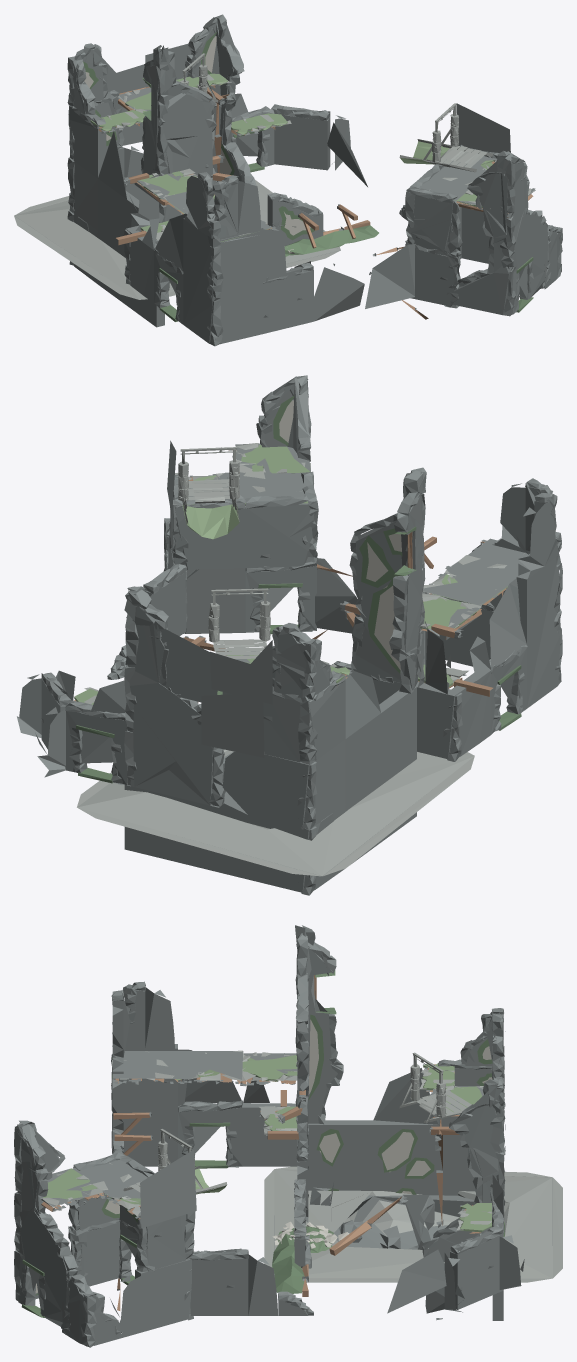
The model's file is jungle_ruins_e-map.glb.
3 renders of one model, top to bottom at view 1: azimuth 30°, elevation 25°; view 2: azimuth 150°, elevation 25°; view 3: azimuth 270°, elevation 25°, orthographic. The views are drawn at different scales.
Visible parts, largest first — view 1: jungle_ruins_walls_corner_E_LOD0, jungle_ruins_floor_250x150_a, jungle_ruins_walls_corner_B_02_LOD0, jungle_ruins_2-S_corner_B_LOD0; view 2: jungle_ruins_walls_corner_E_LOD0, jungle_ruins_floor_250x150_a, jungle_ruins_walls_corner_B_02_LOD0, jungle_ruins_2-S_corner_B_LOD0; view 3: jungle_ruins_walls_corner_E_LOD0, jungle_ruins_floor_250x150_a, jungle_ruins_walls_corner_B_02_LOD0, jungle_ruins_2-S_corner_B_LOD0.
Boxes of the visible parts, x1=… form: jungle_ruins_walls_corner_E_LOD0: x1=14, y1=14, x2=562, y2=346; jungle_ruins_floor_250x150_a: x1=14, y1=53, x2=534, y2=299; jungle_ruins_walls_corner_B_02_LOD0: x1=83, y1=32, x2=533, y2=321; jungle_ruins_2-S_corner_B_LOD0: x1=91, y1=84, x2=533, y2=319; jungle_ruins_walls_corner_E_LOD0: x1=17, y1=375, x2=562, y2=895; jungle_ruins_floor_250x150_a: x1=74, y1=443, x2=525, y2=876; jungle_ruins_walls_corner_B_02_LOD0: x1=76, y1=396, x2=521, y2=783; jungle_ruins_2-S_corner_B_LOD0: x1=74, y1=450, x2=506, y2=702; jungle_ruins_walls_corner_E_LOD0: x1=14, y1=925, x2=552, y2=1347; jungle_ruins_floor_250x150_a: x1=41, y1=1050, x2=562, y2=1282; jungle_ruins_walls_corner_B_02_LOD0: x1=21, y1=970, x2=504, y2=1317; jungle_ruins_2-S_corner_B_LOD0: x1=41, y1=975, x2=480, y2=1310.
Size of the model in its own units: 21.14 by 16.76 by 25.28.
